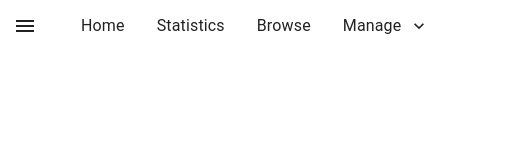
desktop Manage opens a submenu before navigating
Expected: the text "Processed log files" is not shown
Click the menu item "Manage": click(386, 26) [343, 16, 429, 36]
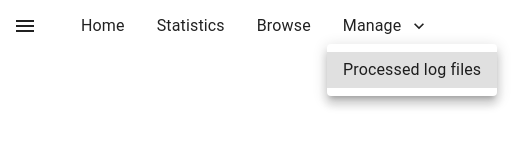
Click the menu item "Processed log files": click(412, 70) [327, 52, 497, 88]
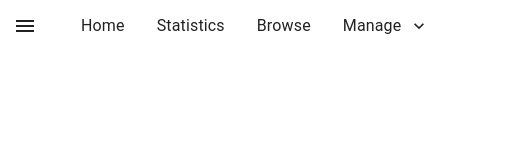
Result: the menu item "Processed log files" is gone
